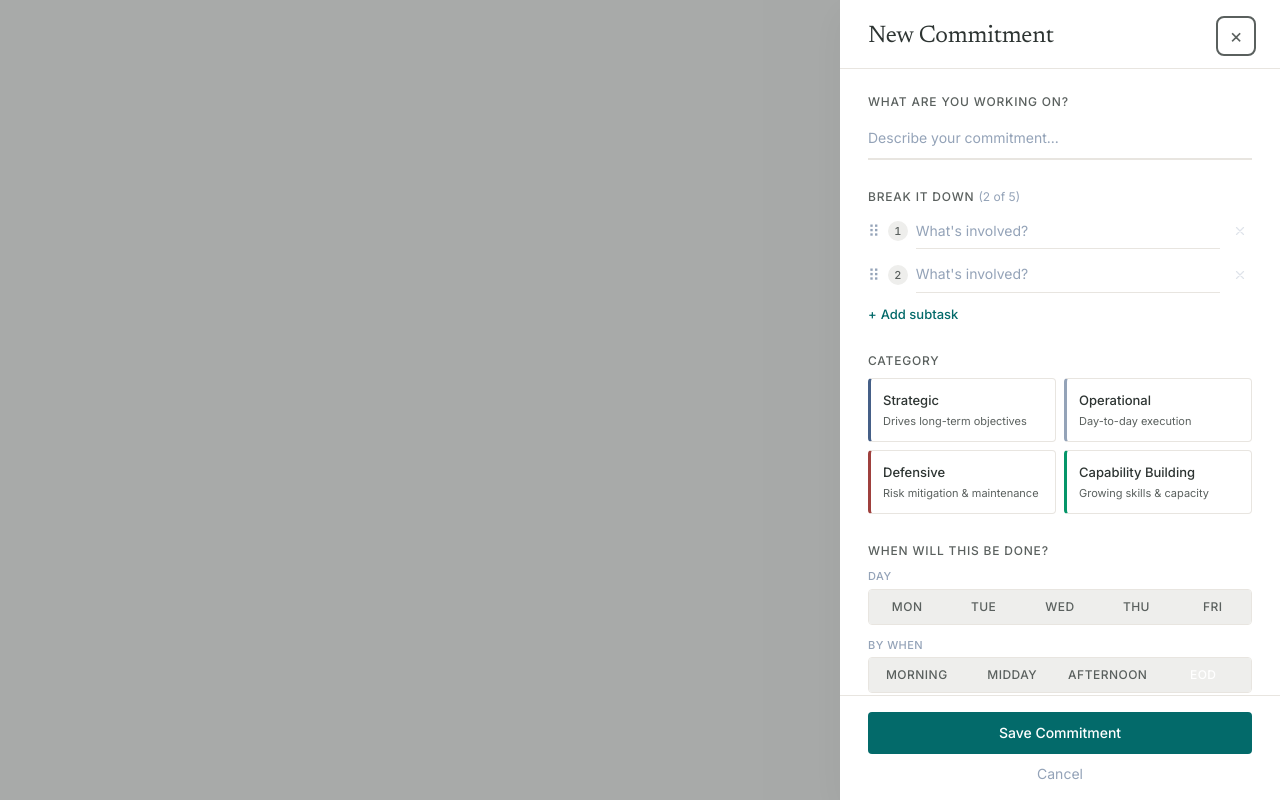
Scenario: CommitmentForm › shows validation error when title is empty and form is submitted
The width and height of the screenshot is (1280, 800).
Click the button "Save Commitment": x=1060, y=733 x1=868 y1=712 x2=1252 y2=754
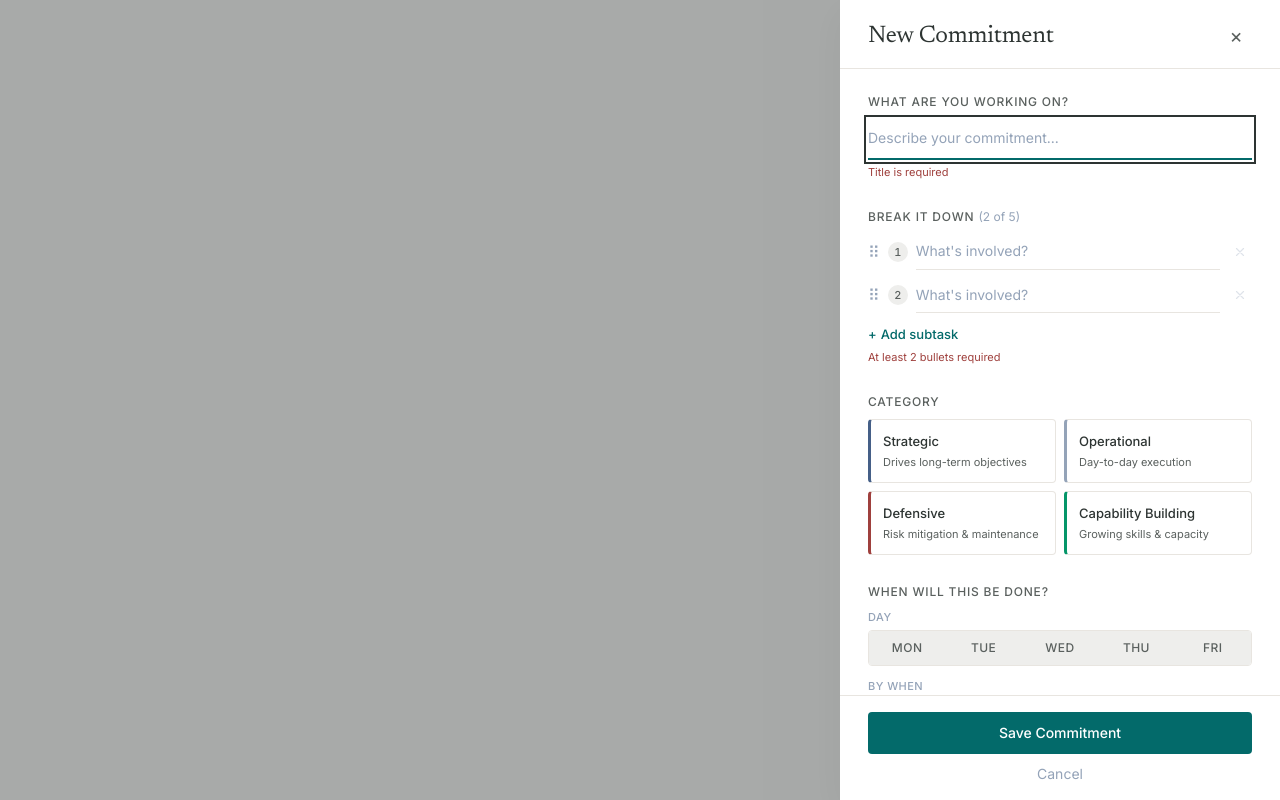
expect the text "Title is required" is shown: met, box x1=868 y1=165 x2=948 y2=179
